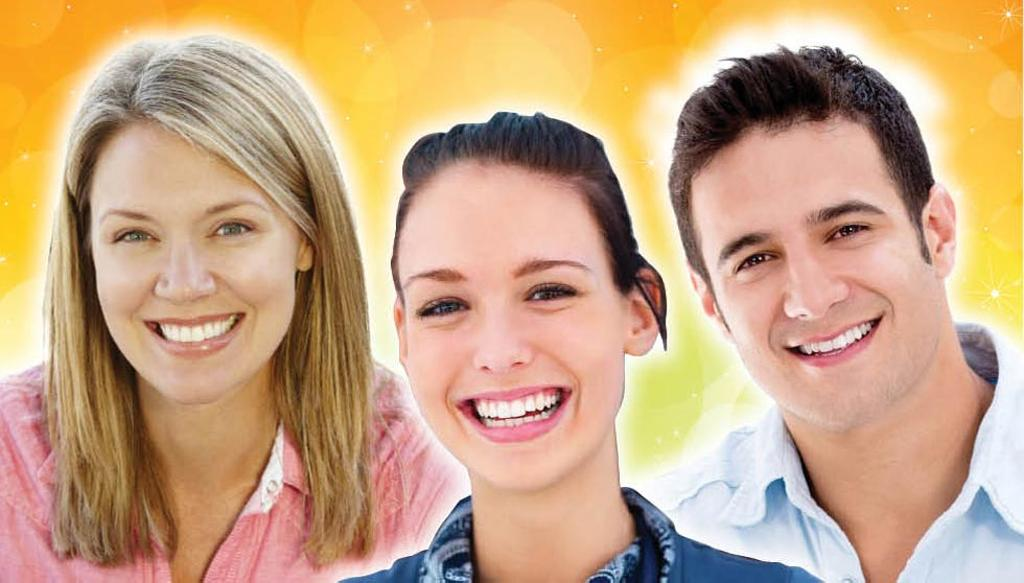face: (680, 110, 936, 430), (396, 158, 632, 490), (86, 120, 302, 402)
